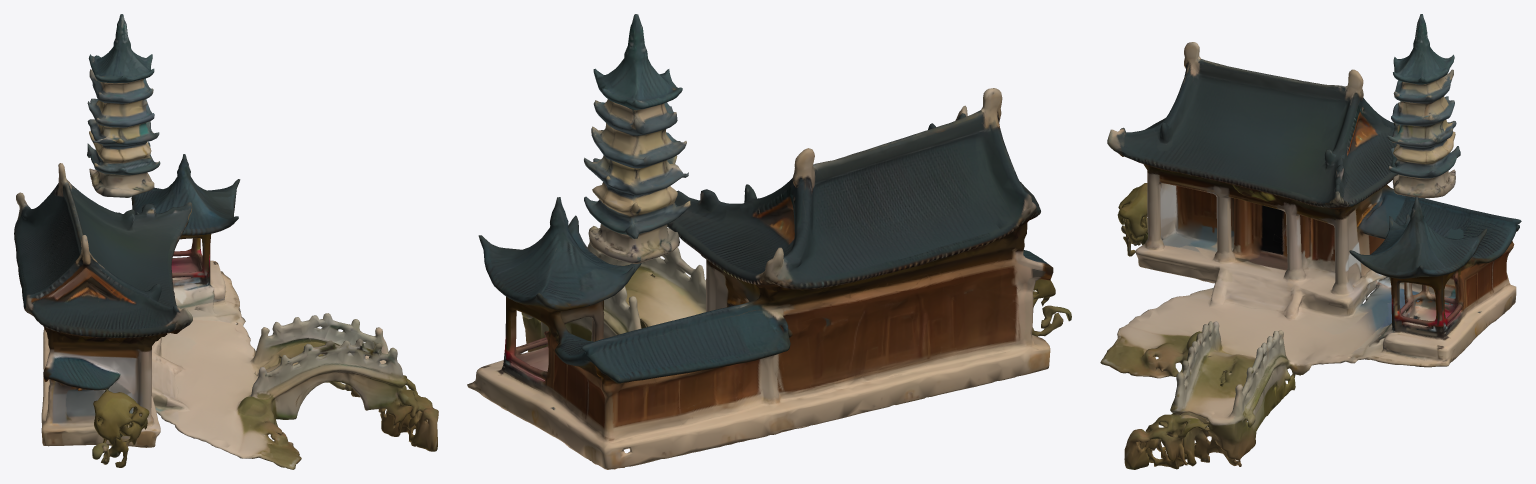
The picture shows the model from 3 angles, left to right: view 1: azimuth 30°, elevation 25°; view 2: azimuth 150°, elevation 25°; view 3: azimuth 270°, elevation 25°; orthographic projection. The views are drawn at different scales.
Parts seen in each view (by area): view 1: material.001; view 2: material.001; view 3: material.001.
Boxes of the visible parts, bbox=[...] form: material.001: bbox=[14, 14, 438, 469]; material.001: bbox=[467, 14, 1071, 469]; material.001: bbox=[1100, 14, 1521, 469].
Bounding box in the file's own units: 0.7644 × 0.7277 × 0.7427.
1 material, 1 textured.
